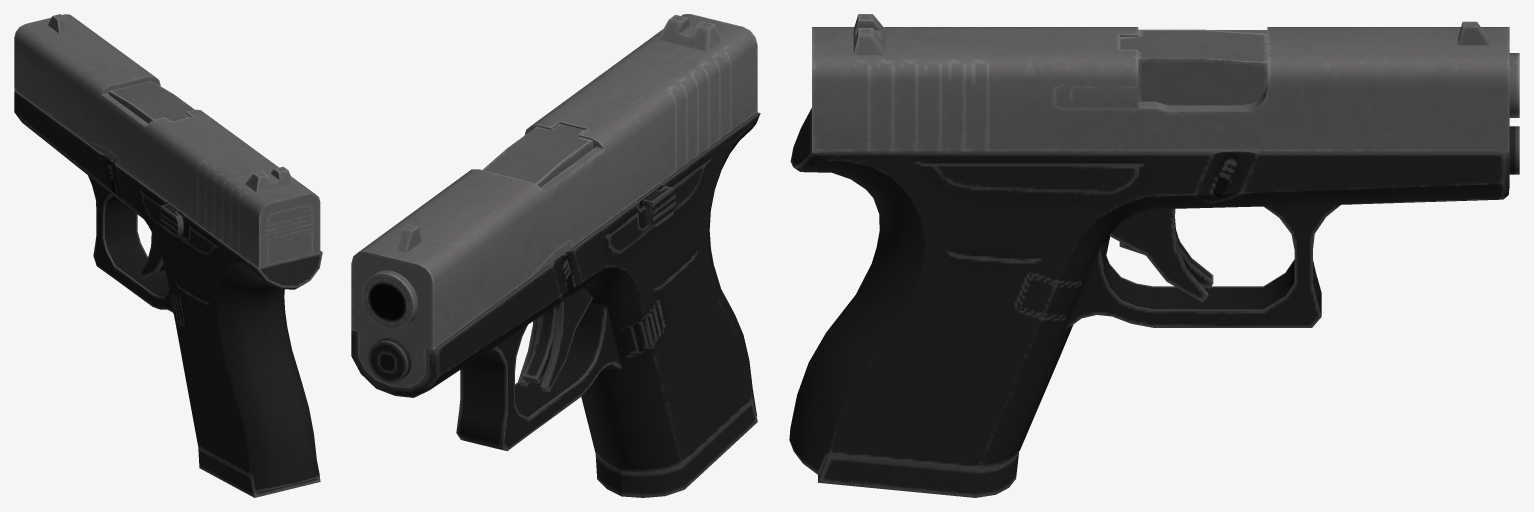
3 renders of one model, left to right at view 1: azimuth 30°, elevation 25°; view 2: azimuth 150°, elevation 25°; view 3: azimuth 270°, elevation 25°, orthographic. The views are drawn at different scales.
Visible parts, largest first — view 1: G43, G43_Slide, G43_Barrel, G43_Magazine, G43_SlideStop, G43_Trigger; view 2: G43, G43_Slide, G43_Barrel, G43_Magazine, G43_Trigger, G43_SlideStop; view 3: G43, G43_Slide, G43_Barrel, G43_Magazine, G43_Trigger.
Boxes of the visible parts, left/top/right/bottom form: G43: left=14, top=89, right=322, bottom=492; G43_Slide: left=14, top=14, right=320, bottom=267; G43_Barrel: left=109, top=81, right=194, bottom=123; G43_Magazine: left=198, top=447, right=320, bottom=497; G43_SlideStop: left=160, top=204, right=183, bottom=237; G43_Trigger: left=140, top=232, right=165, bottom=277; G43: left=351, top=112, right=760, bottom=472; G43_Slide: left=351, top=14, right=757, bottom=387; G43_Barrel: left=361, top=124, right=592, bottom=329; G43_Magazine: left=595, top=400, right=757, bottom=497; G43_Trigger: left=518, top=287, right=592, bottom=392; G43_SlideStop: left=643, top=186, right=675, bottom=227; G43: left=789, top=108, right=1519, bottom=475; G43_Slide: left=812, top=14, right=1509, bottom=151; G43_Barrel: left=1120, top=29, right=1519, bottom=117; G43_Magazine: left=818, top=451, right=1019, bottom=497; G43_Trigger: left=1109, top=208, right=1213, bottom=302.
Size of the model in its own units: 0.0264 by 0.1093 by 0.1592.
1 material, 1 textured.
